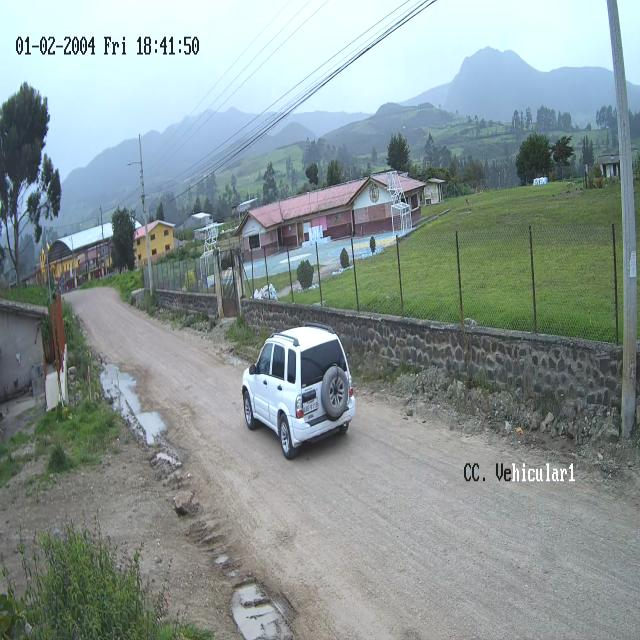SUV: (241, 328, 357, 461)
